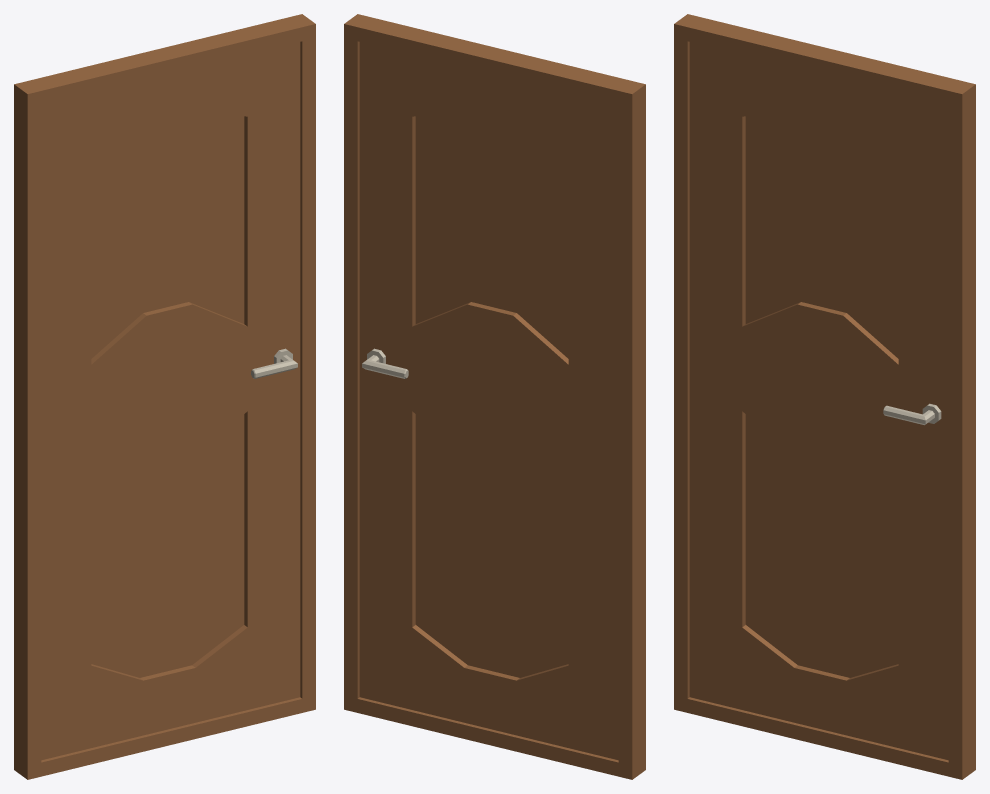
The model's file is Mesh_Door_D08.fbx.
3 views of the same model, side by side, from view 1: azimuth 30°, elevation 25°; view 2: azimuth 150°, elevation 25°; view 3: azimuth 330°, elevation 25° (orthographic).
Parts seen in each view (by area): view 1: Mesh_Door_D08; view 2: Mesh_Door_D08; view 3: Mesh_Door_D08.
Boxes of the visible parts, bbox=[...] form: Mesh_Door_D08: bbox=[14, 14, 315, 779]; Mesh_Door_D08: bbox=[344, 14, 645, 779]; Mesh_Door_D08: bbox=[674, 14, 975, 779].
Bounding box in the file's own units: 0.9 × 2.05 × 0.1742.
